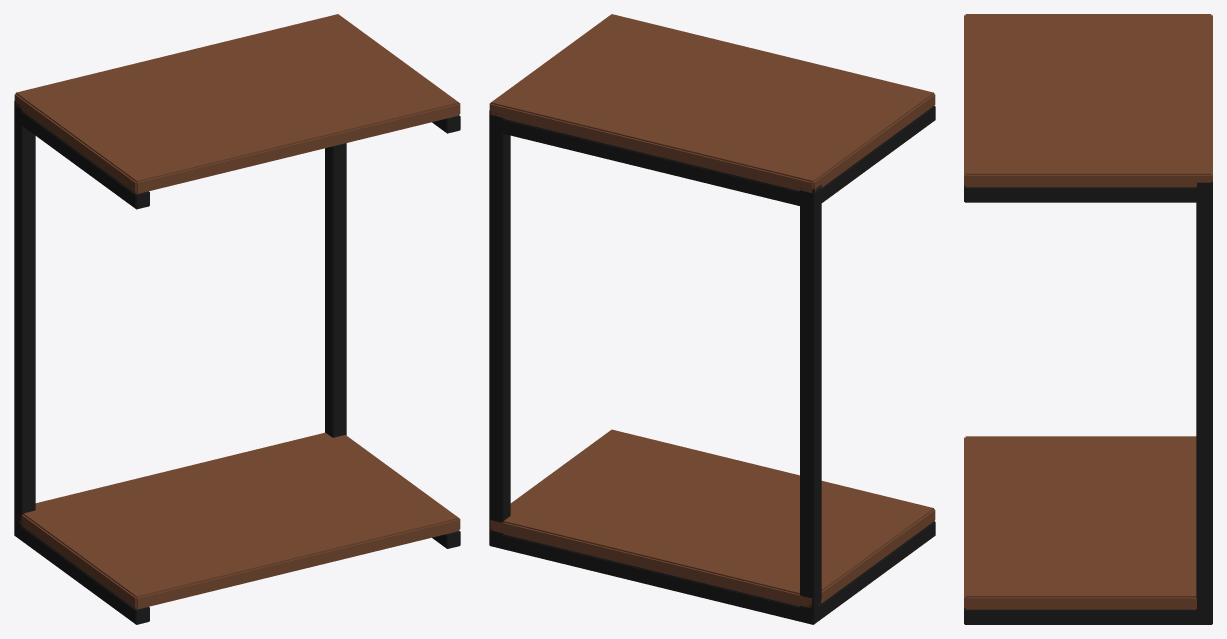
3 views of the same model, side by side, from view 1: azimuth 30°, elevation 25°; view 2: azimuth 150°, elevation 25°; view 3: azimuth 270°, elevation 25° (orthographic).
Visible parts, largest first — view 1: hout-portable-coffee-table; view 2: hout-portable-coffee-table; view 3: hout-portable-coffee-table.
Boxes of the visible parts, x1,y1,x2,y2 form: hout-portable-coffee-table: (14, 14, 460, 624); hout-portable-coffee-table: (489, 14, 935, 624); hout-portable-coffee-table: (964, 14, 1212, 624).
Bounding box in the file's own units: 0.46 × 0.6 × 0.3.
